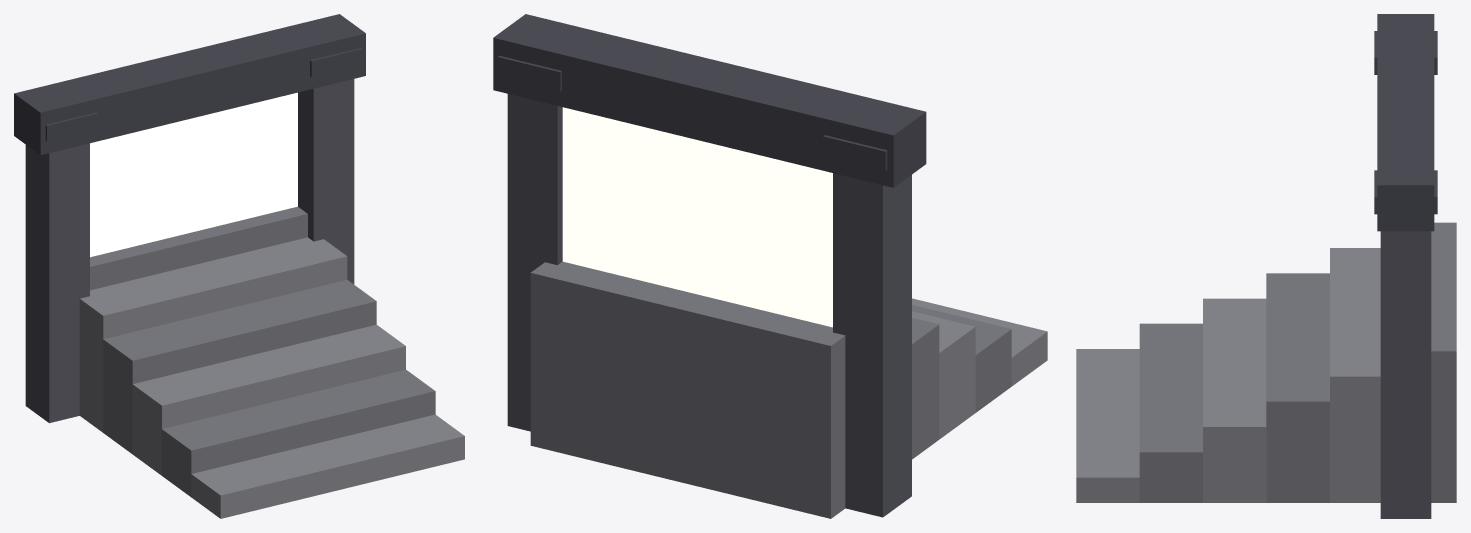
File: stairs.glb
The picture shows the model from 3 angles, left to right: view 1: azimuth 30°, elevation 25°; view 2: azimuth 150°, elevation 25°; view 3: azimuth 270°, elevation 25°; orthographic projection. The views are drawn at different scales.
Parts seen in each view (by area): view 1: glow, lintel, pillar, step3, step4, step2, step1, step0, pillar.001, step5, pillar_cap, pillar_cap.001; view 2: step5, glow, lintel, pillar, pillar.001, step2, step3, step1, step0, pillar_cap, pillar_cap.001; view 3: pillar.001, step3, step2, step4, lintel, step1, step0, step5.
Boxes of the visible parts, box(x1,y1,x2,y2) form: glow: box(90, 92, 297, 257); lintel: box(14, 14, 365, 155); pillar: box(25, 143, 89, 423); step3: box(103, 279, 376, 454); step4: box(79, 237, 347, 432); step2: box(132, 324, 405, 475); step1: box(162, 369, 435, 496); step0: box(191, 414, 464, 518); pillar.001: box(298, 79, 354, 284); step5: box(90, 206, 307, 290); pillar_cap: box(45, 112, 97, 141); pillar_cap.001: box(310, 48, 362, 77); step5: box(530, 261, 845, 518); glow: box(562, 107, 832, 327); lintel: box(493, 14, 926, 187); pillar: box(833, 173, 911, 517); pillar.001: box(507, 94, 562, 431); step2: box(912, 311, 975, 439); step3: box(912, 317, 939, 459); step1: box(912, 305, 1011, 412); step0: box(912, 298, 1047, 386); pillar_cap: box(823, 135, 887, 171); pillar_cap.001: box(497, 55, 561, 91); pillar.001: box(1380, 231, 1431, 518); step3: box(1266, 273, 1329, 502); step2: box(1203, 298, 1266, 502); step4: box(1330, 248, 1380, 502); lintel: box(1377, 14, 1434, 231); step1: box(1139, 323, 1202, 502); step0: box(1076, 349, 1139, 502); step5: box(1431, 222, 1456, 502).
Size of the model in its own units: 3.2 by 2.95 by 3.
